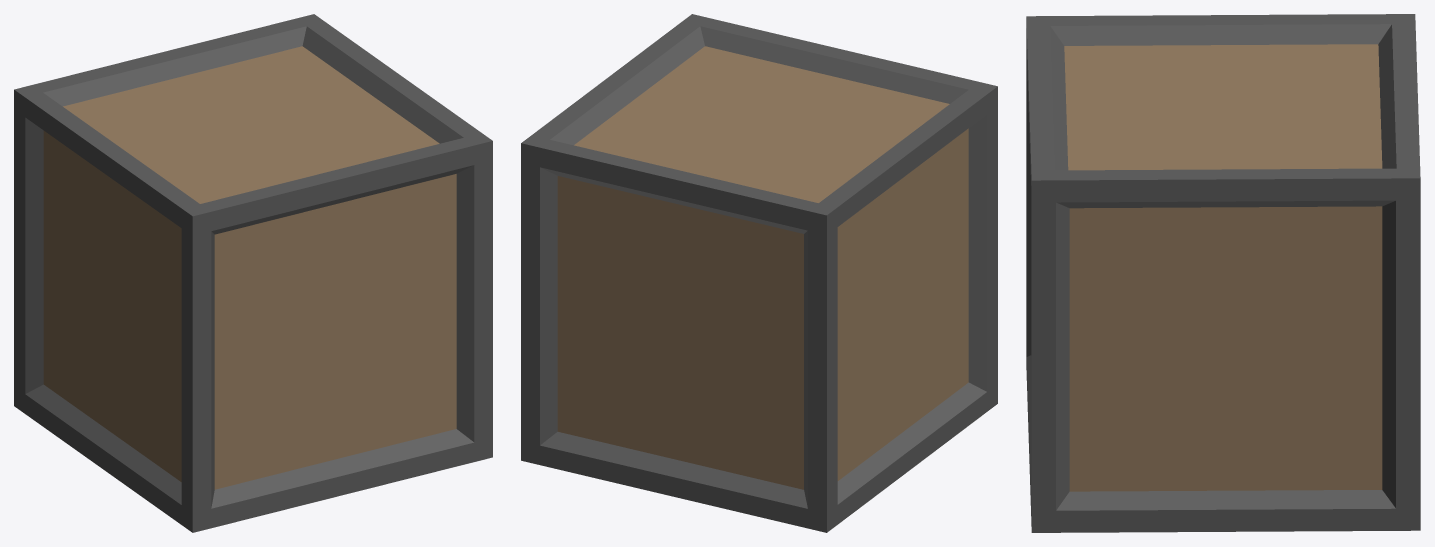
Rendered from env_CrateBig.fbx.
3 renders of one model, left to right at view 1: azimuth 30°, elevation 25°; view 2: azimuth 150°, elevation 25°; view 3: azimuth 270°, elevation 25°, orthographic. The views are drawn at different scales.
Visible parts, largest first — view 1: env_CrateBig_01; view 2: env_CrateBig_01; view 3: env_CrateBig_01.
Boxes of the visible parts, x1=… form: env_CrateBig_01: x1=14, y1=14, x2=492, y2=532; env_CrateBig_01: x1=521, y1=14, x2=997, y2=532; env_CrateBig_01: x1=1026, y1=14, x2=1420, y2=532.
Bounding box in the file's own units: 68.75 × 67.84 × 68.75.
